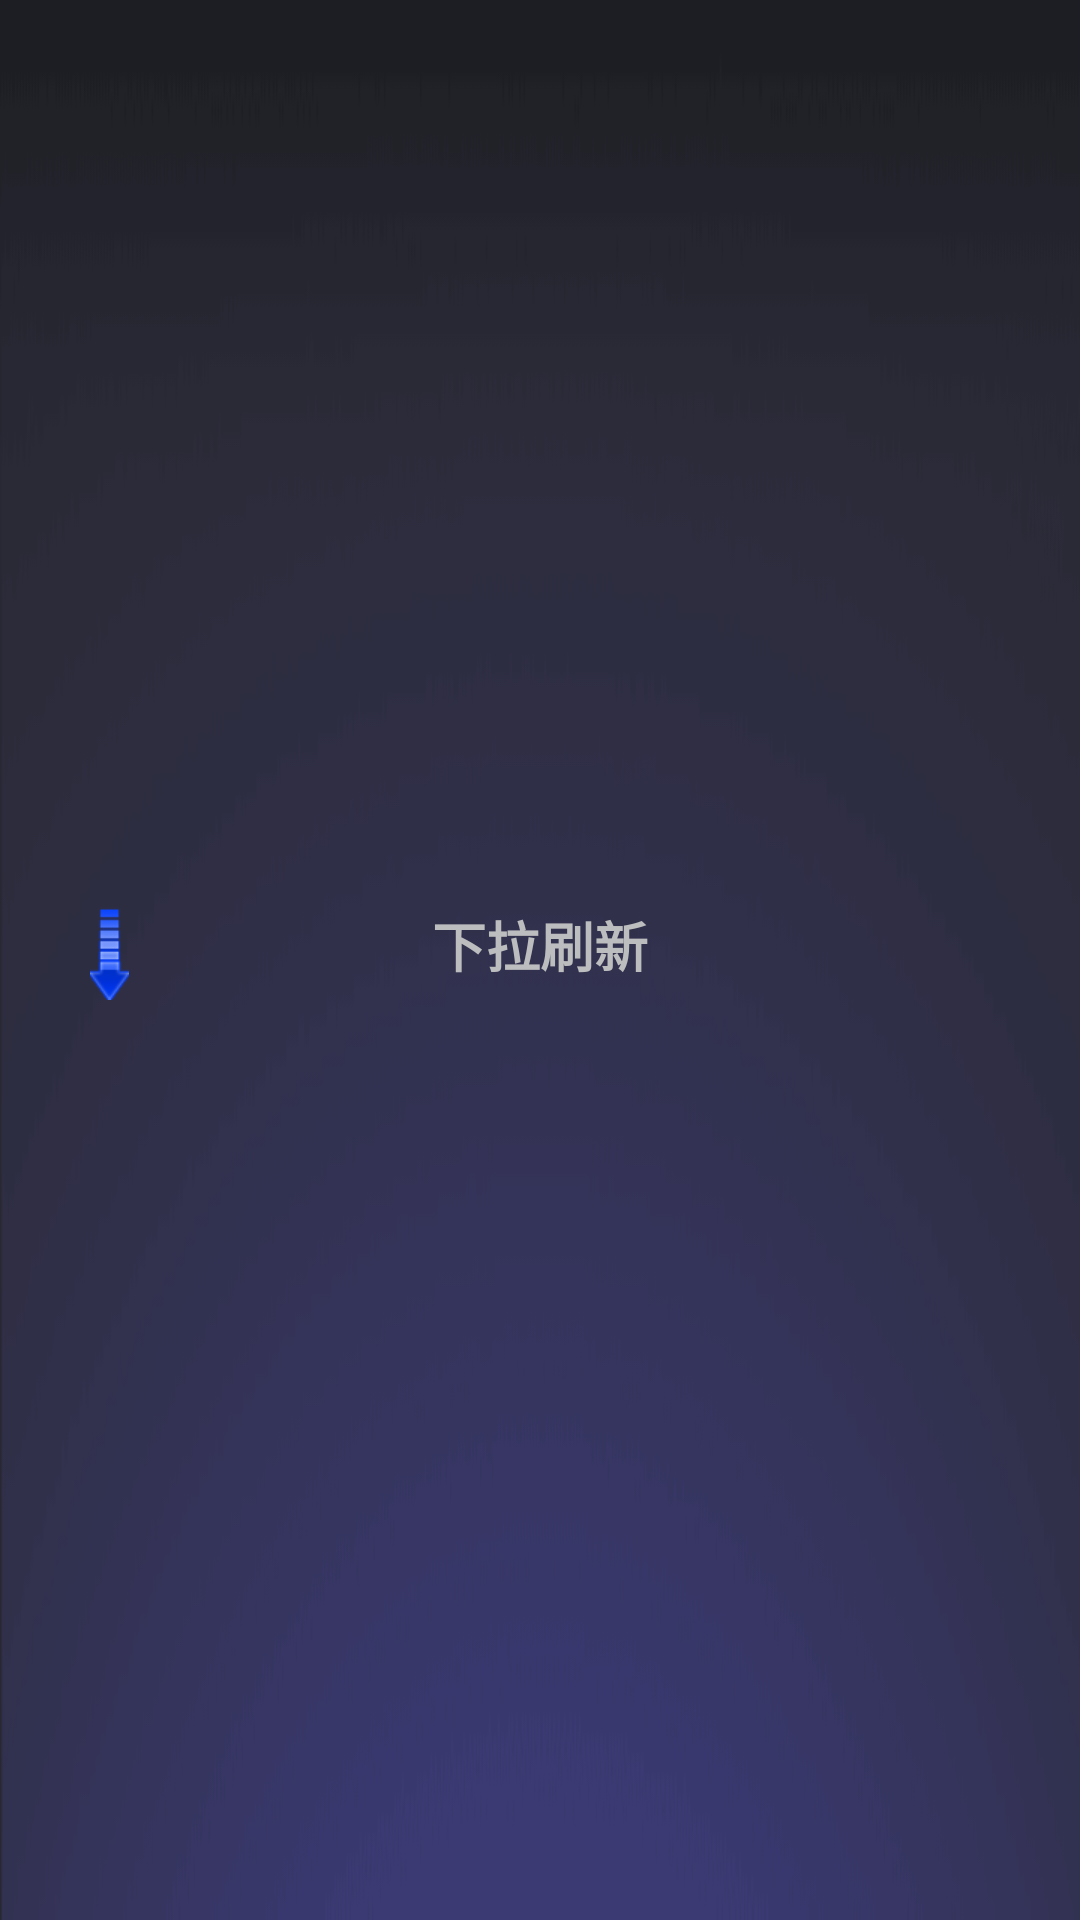

Point at icon controls on the screen. Image size 1080px×1920px, points as [x,y].
pulltorefresh arrow: [109,954]
